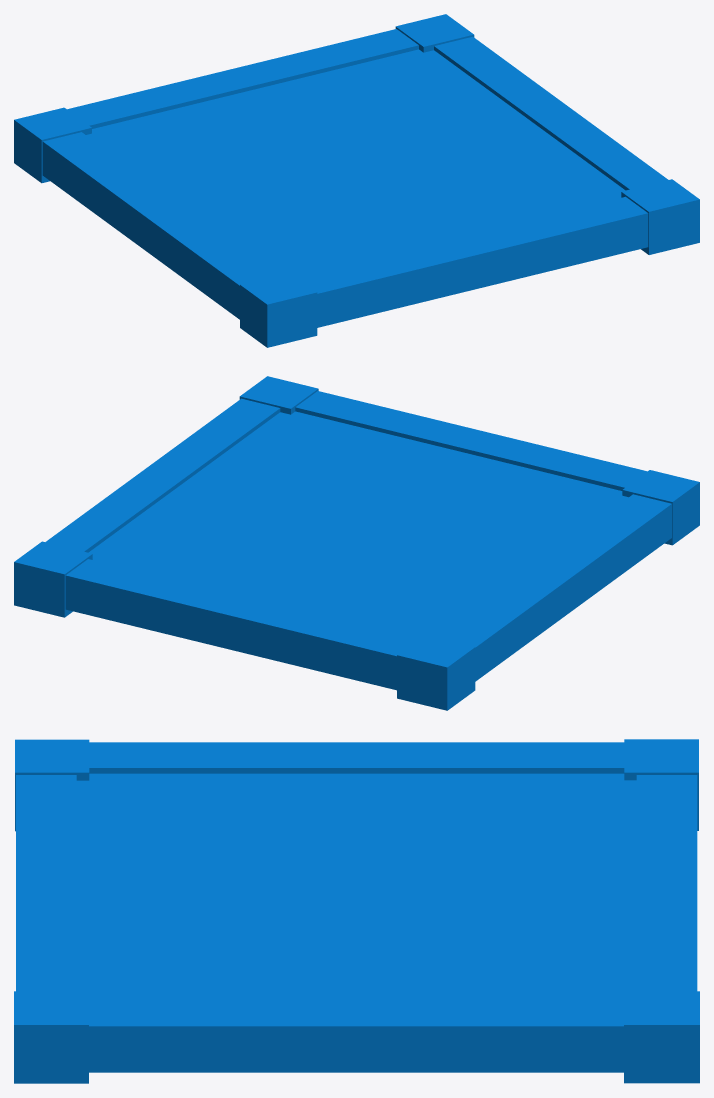
Rendered from Floor_04.fbx.
3 renders of one model, top to bottom at view 1: azimuth 30°, elevation 25°; view 2: azimuth 150°, elevation 25°; view 3: azimuth 270°, elevation 25°, orthographic. The views are drawn at different scales.
Visible parts, largest first — view 1: Floor_04; view 2: Floor_04; view 3: Floor_04.
Boxes of the visible parts, bbox=[...] form: Floor_04: bbox=[14, 14, 699, 347]; Floor_04: bbox=[14, 376, 699, 710]; Floor_04: bbox=[14, 739, 699, 1083].
Bounding box in the file's own units: 1532 × 146 × 1553.
